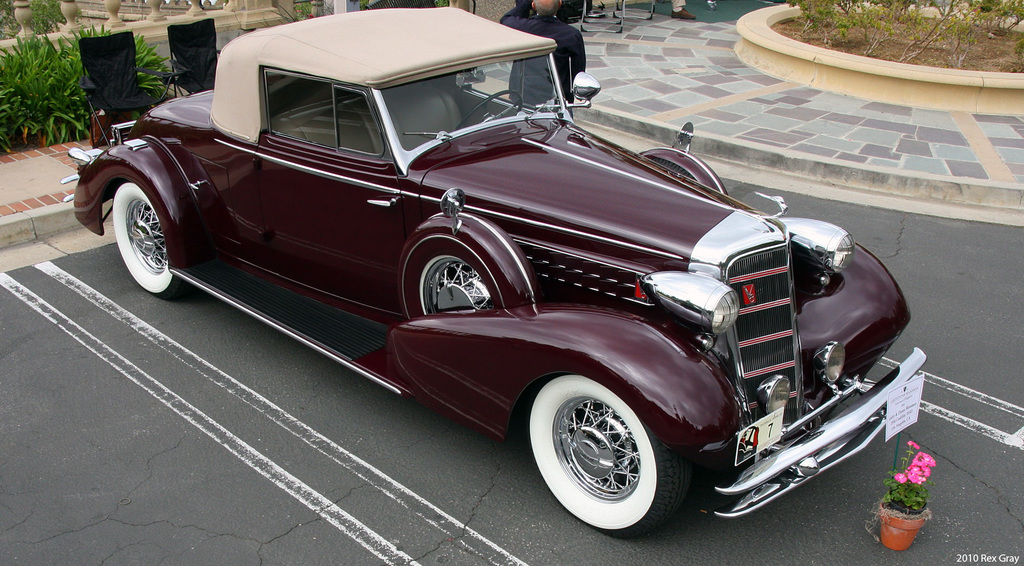Car: (58, 0, 936, 542)
